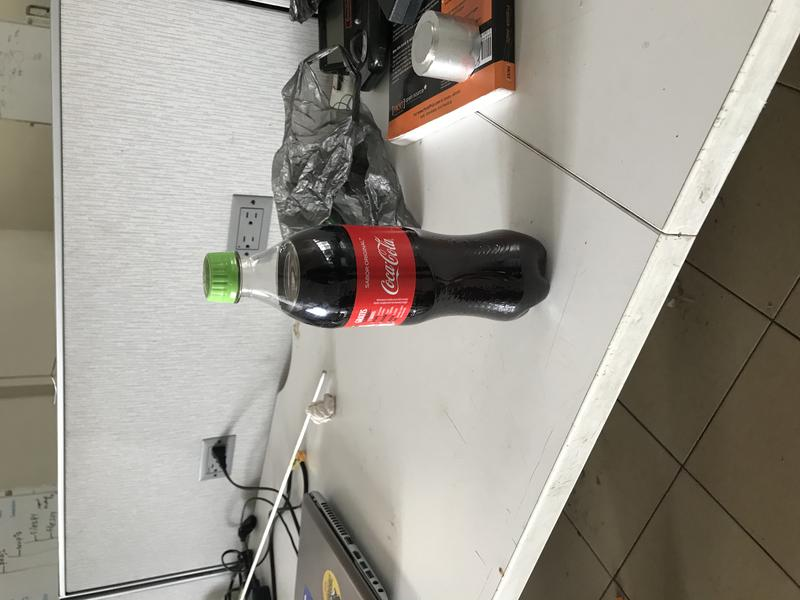coca_cola: (204, 224, 549, 330)
